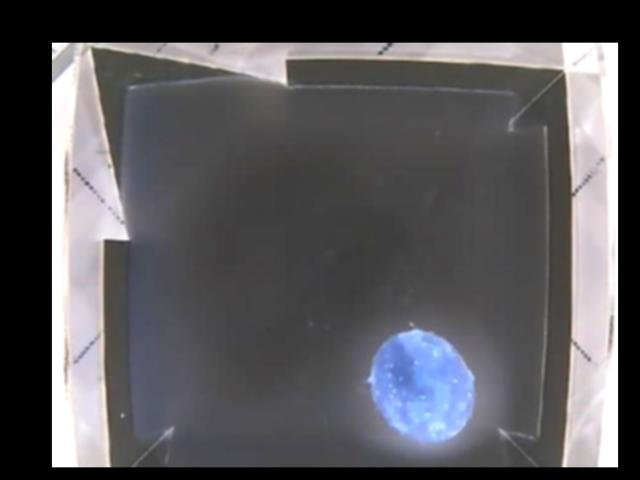Potato: (370, 327, 476, 440)
